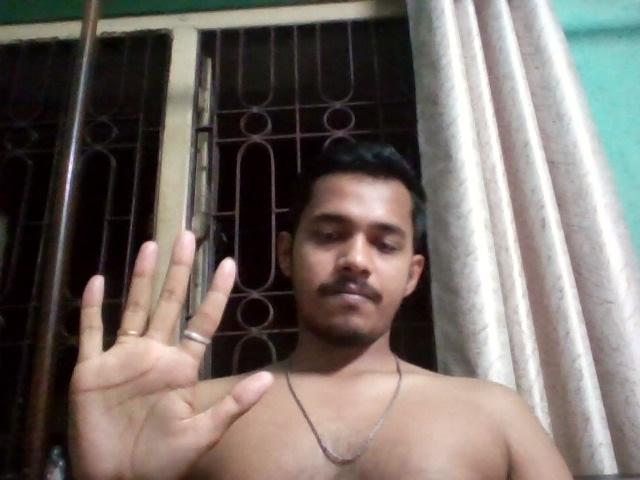Hello: (34, 203, 271, 478)
